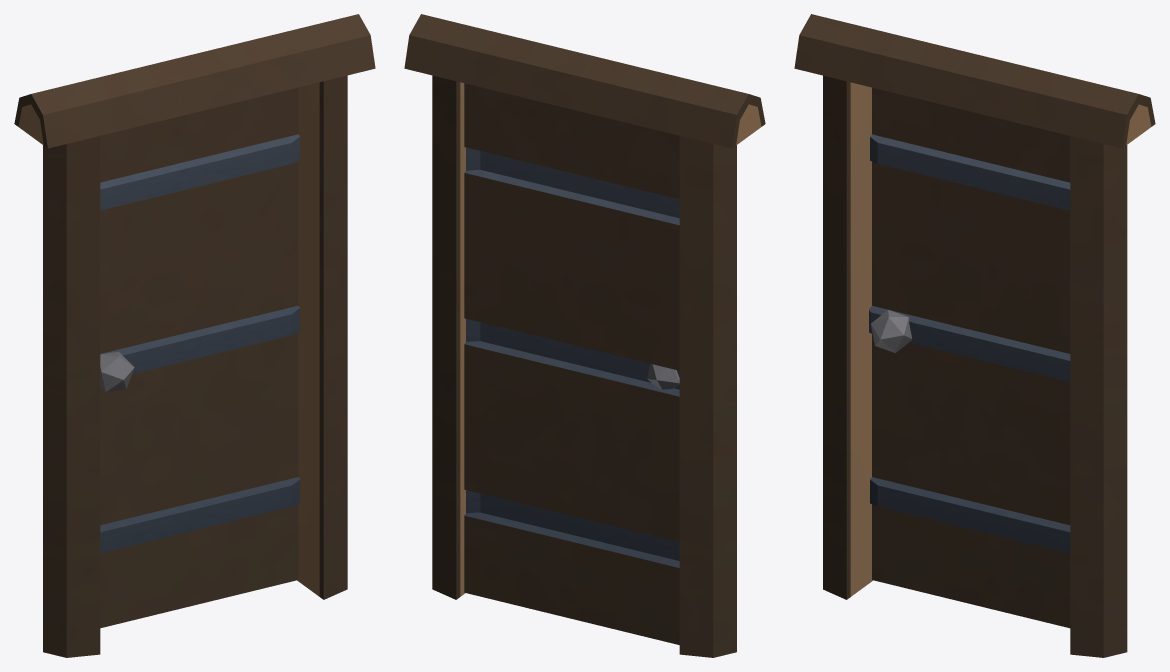
File: cabin_Door.obj
The picture shows the model from 3 angles, left to right: view 1: azimuth 30°, elevation 25°; view 2: azimuth 150°, elevation 25°; view 3: azimuth 330°, elevation 25°; orthographic projection.
Parts seen in each view (by area): view 1: cabin_Door; view 2: cabin_Door; view 3: cabin_Door.
Part boxes in pixels (bbox=[...]): cabin_Door: bbox=[14, 14, 375, 657]; cabin_Door: bbox=[404, 14, 765, 657]; cabin_Door: bbox=[794, 14, 1155, 657].
Size of the model in its own units: 1.41 by 2.3 by 0.2493.
